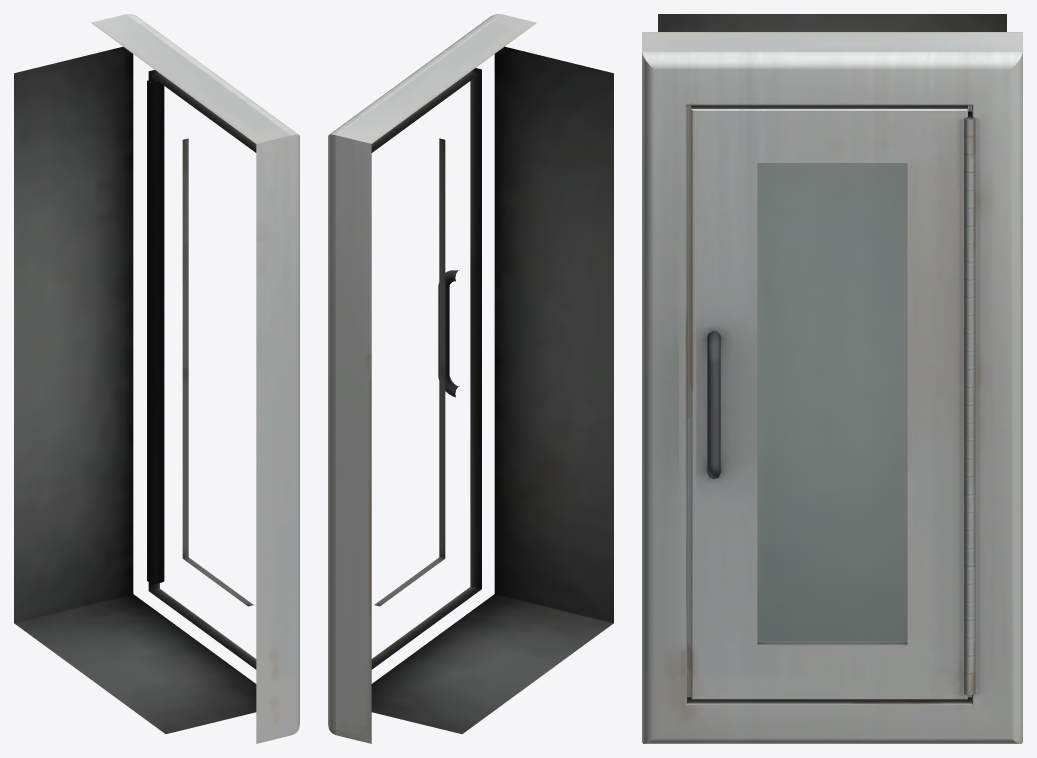
3 views of the same model, side by side, from view 1: azimuth 30°, elevation 25°; view 2: azimuth 150°, elevation 25°; view 3: azimuth 270°, elevation 25° (orthographic). The views are drawn at different scales.
Parts seen in each view (by area): view 1: body0_model0_lod0_mesh0; view 2: body0_model0_lod0_mesh0; view 3: body0_model0_lod0_mesh0, body0_model0_lod0_mesh1.
Part boxes in pixels (left/top/right/bottom): body0_model0_lod0_mesh0: left=14, top=14, right=299, bottom=743; body0_model0_lod0_mesh0: left=328, top=14, right=613, bottom=743; body0_model0_lod0_mesh0: left=642, top=14, right=1022, bottom=743; body0_model0_lod0_mesh1: left=757, top=163, right=907, bottom=642.
Size of the model in its own units: 12.62 by 48 by 24.
2 materials, 2 textured.
